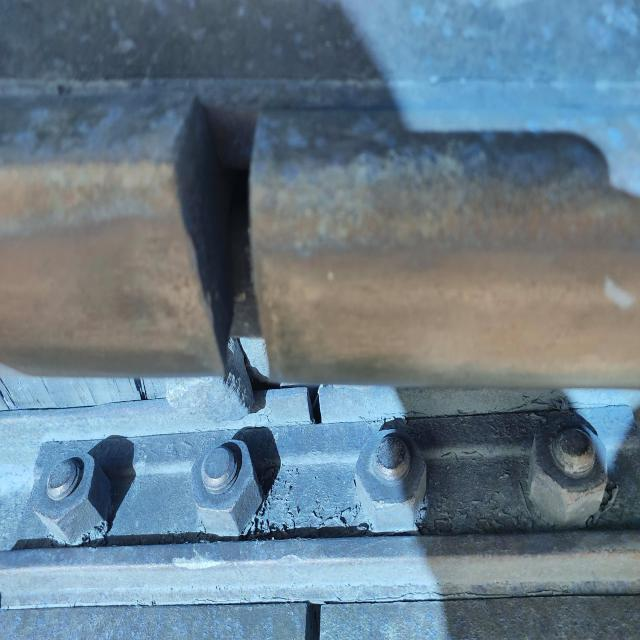Good Joint: (0, 408, 640, 602)
